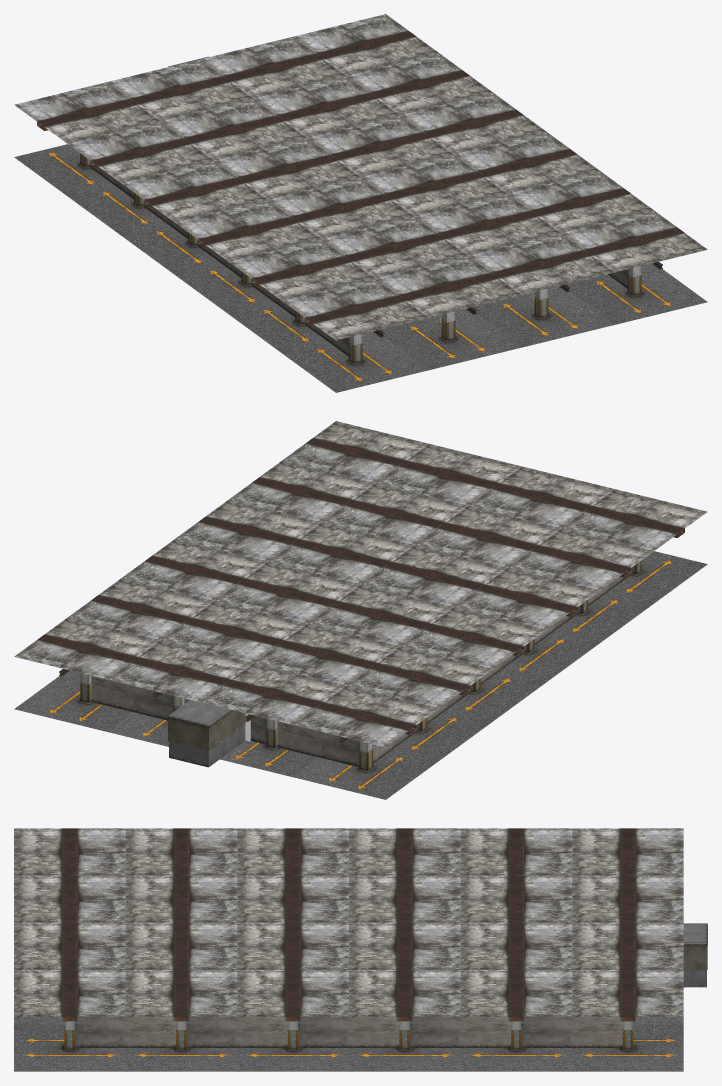
The model's file is dxb-parking.glb.
3 renders of one model, top to bottom at view 1: azimuth 30°, elevation 25°; view 2: azimuth 150°, elevation 25°; view 3: azimuth 270°, elevation 25°, orthographic. The views are drawn at different scales.
Parts seen in each view (by area): view 1: Cloner, wall; view 2: Cloner, asansor, Polygon_2, Polygon, wall; view 3: Cloner, wall, asansor.
Boxes of the visible parts, x1=… form: Cloner: x1=14, y1=14, x2=707, y2=392; wall: x1=90, y1=160, x2=628, y2=356; Cloner: x1=14, y1=421, x2=707, y2=799; asansor: x1=168, y1=700, x2=250, y2=767; Polygon_2: x1=277, y1=721, x2=359, y2=766; Polygon: x1=91, y1=675, x2=173, y2=720; wall: x1=372, y1=567, x2=631, y2=763; Cloner: x1=14, y1=828, x2=683, y2=1071; wall: x1=74, y1=1017, x2=623, y2=1047; asansor: x1=683, y1=923, x2=707, y2=987.
Bounding box in the file's own units: 28 × 3.82 × 43.52.
10 materials, 10 textured.
